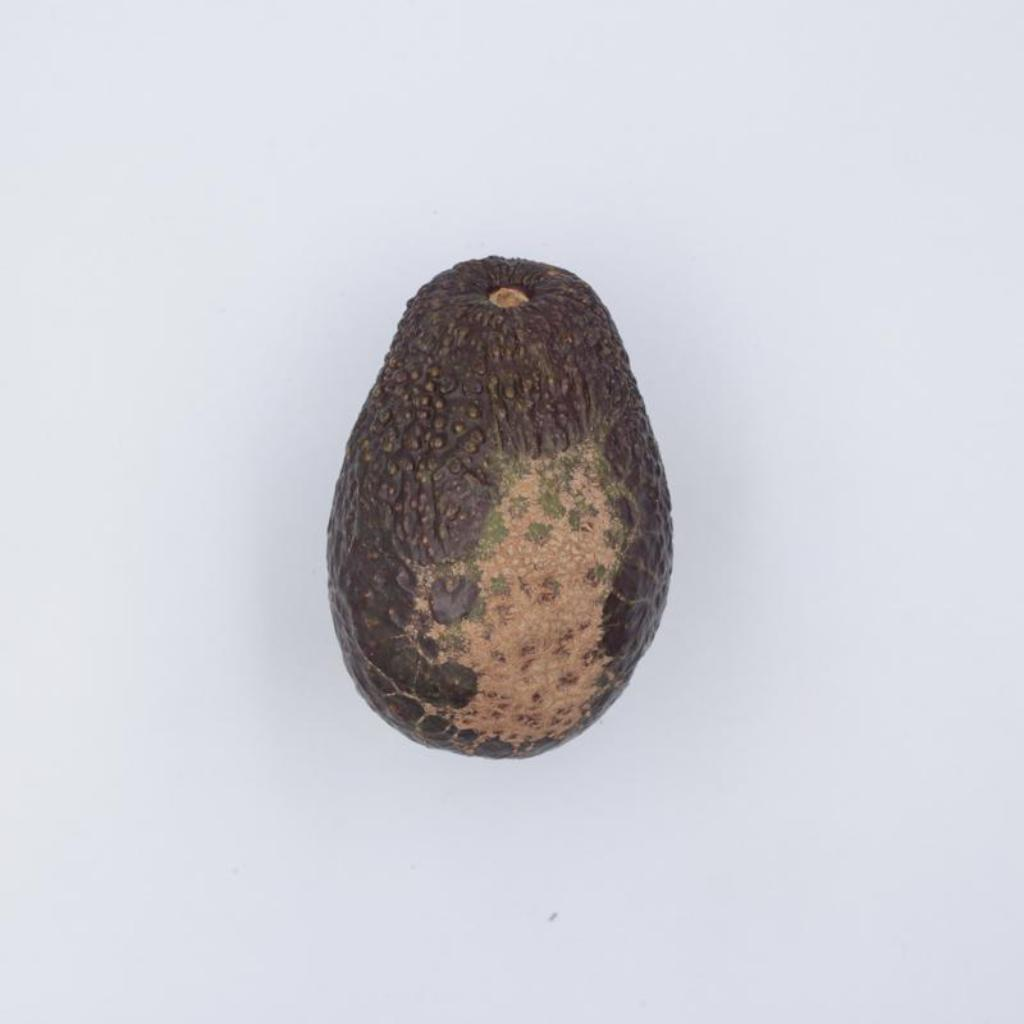scab: (329, 257, 671, 756)
